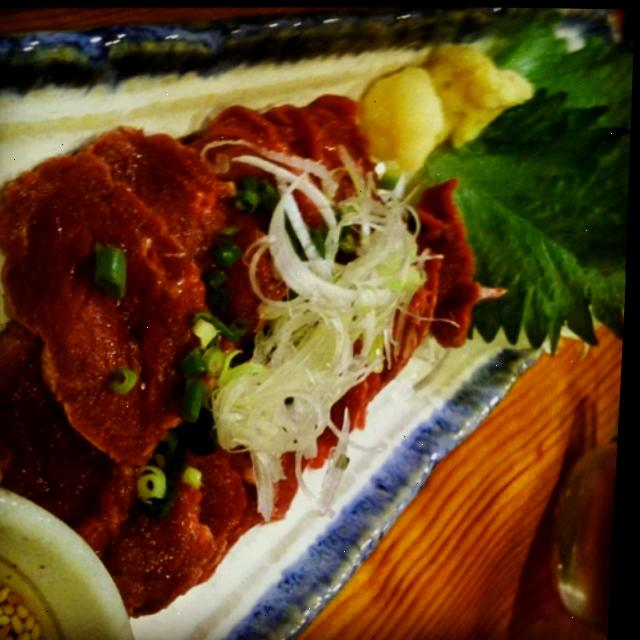刺身生食: (0, 69, 491, 613)
